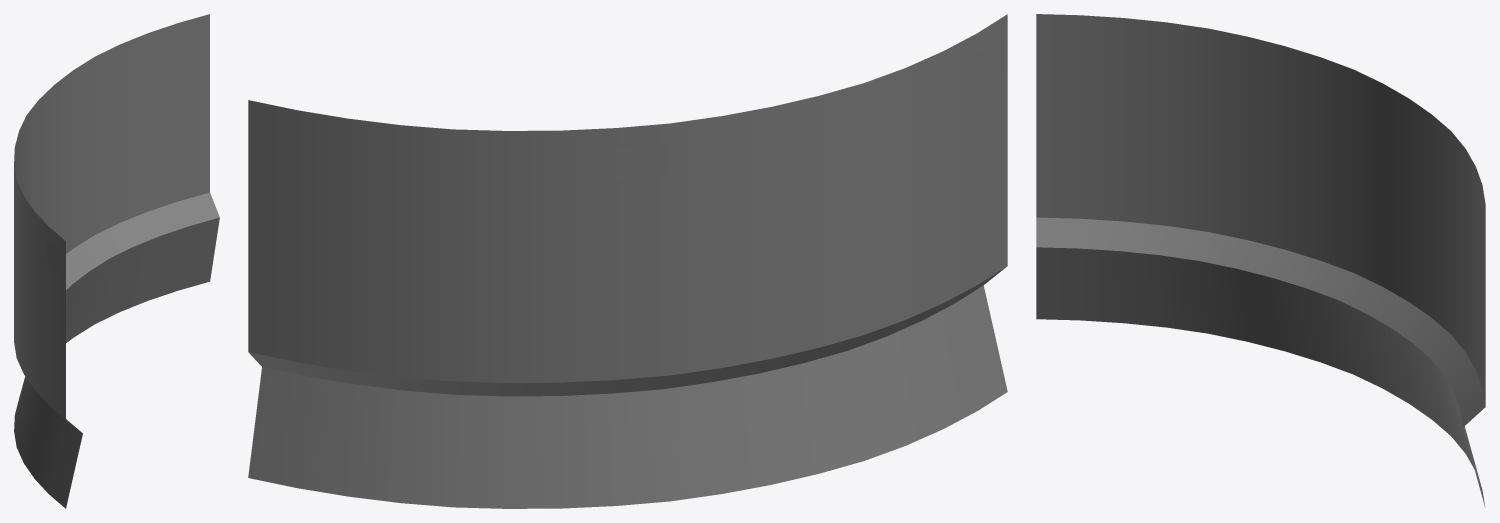
Rendered from q-scifi-mod-wallband-corner-round-outer.glb.
The picture shows the model from 3 angles, left to right: view 1: azimuth 30°, elevation 25°; view 2: azimuth 150°, elevation 25°; view 3: azimuth 270°, elevation 25°; orthographic projection. The views are drawn at different scales.
Visible parts, largest first — view 1: WallBand_Corner_Round_Outer; view 2: WallBand_Corner_Round_Outer; view 3: WallBand_Corner_Round_Outer.
Part boxes in pixels (<box>): WallBand_Corner_Round_Outer: <box>14,14,219,508</box>; WallBand_Corner_Round_Outer: <box>248,14,1007,508</box>; WallBand_Corner_Round_Outer: <box>1036,14,1485,507</box>.
Bounding box in the file's own units: 4.01 × 3 × 4.
Materials: 3 (3 with a texture image).
